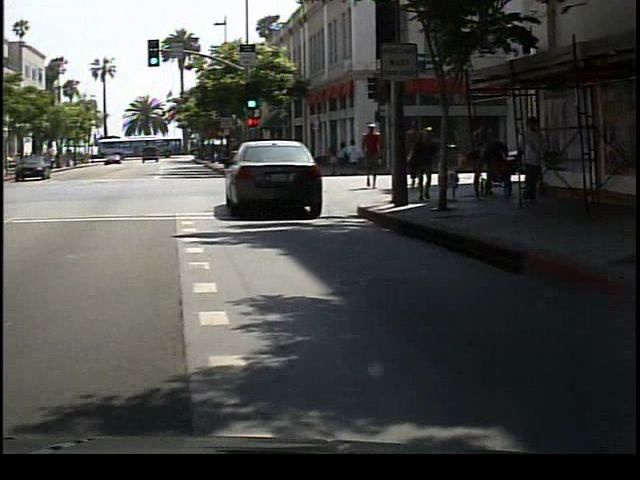person: (360, 118, 393, 199)
